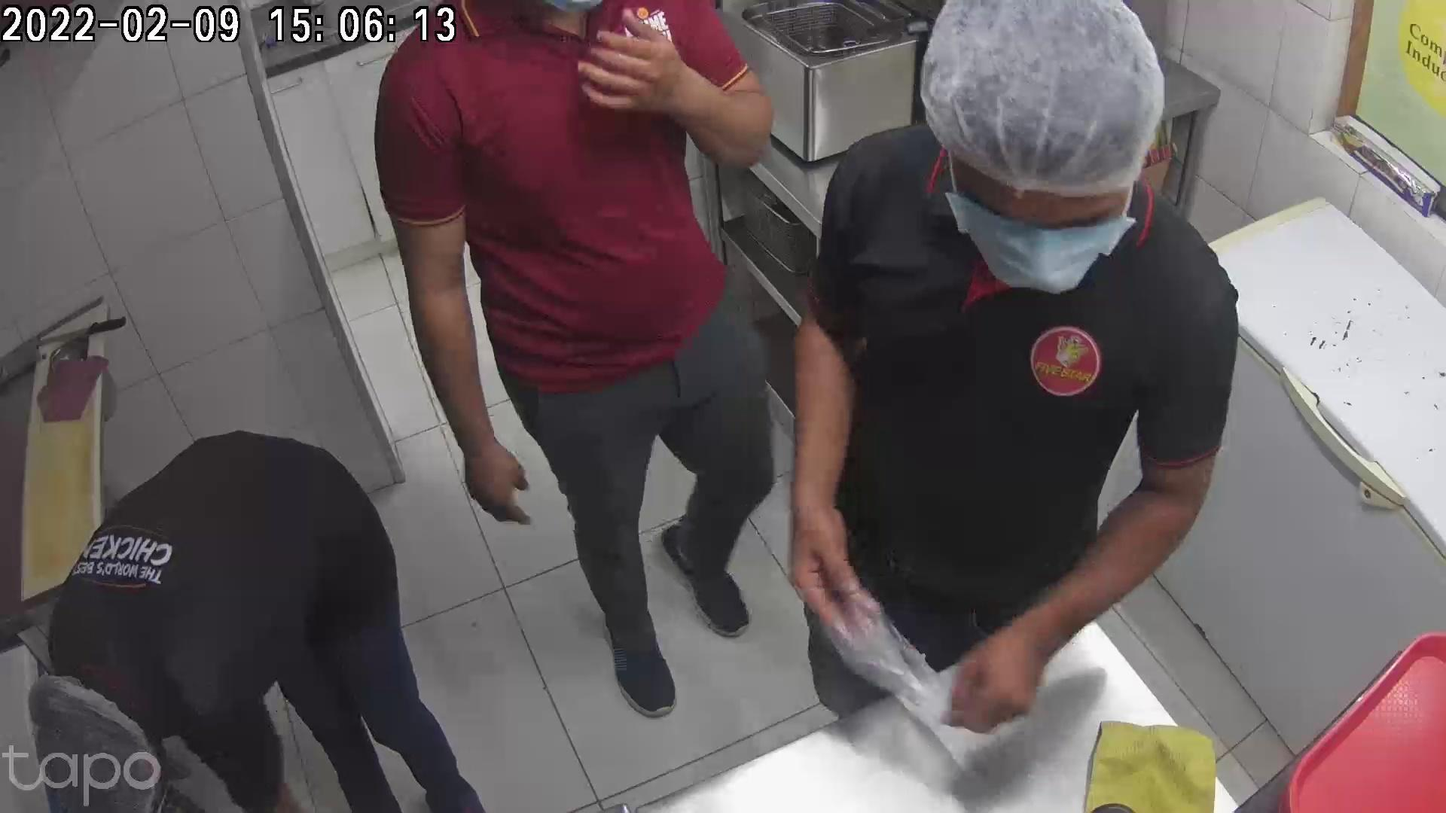no_gloves: (461, 411, 527, 528)
